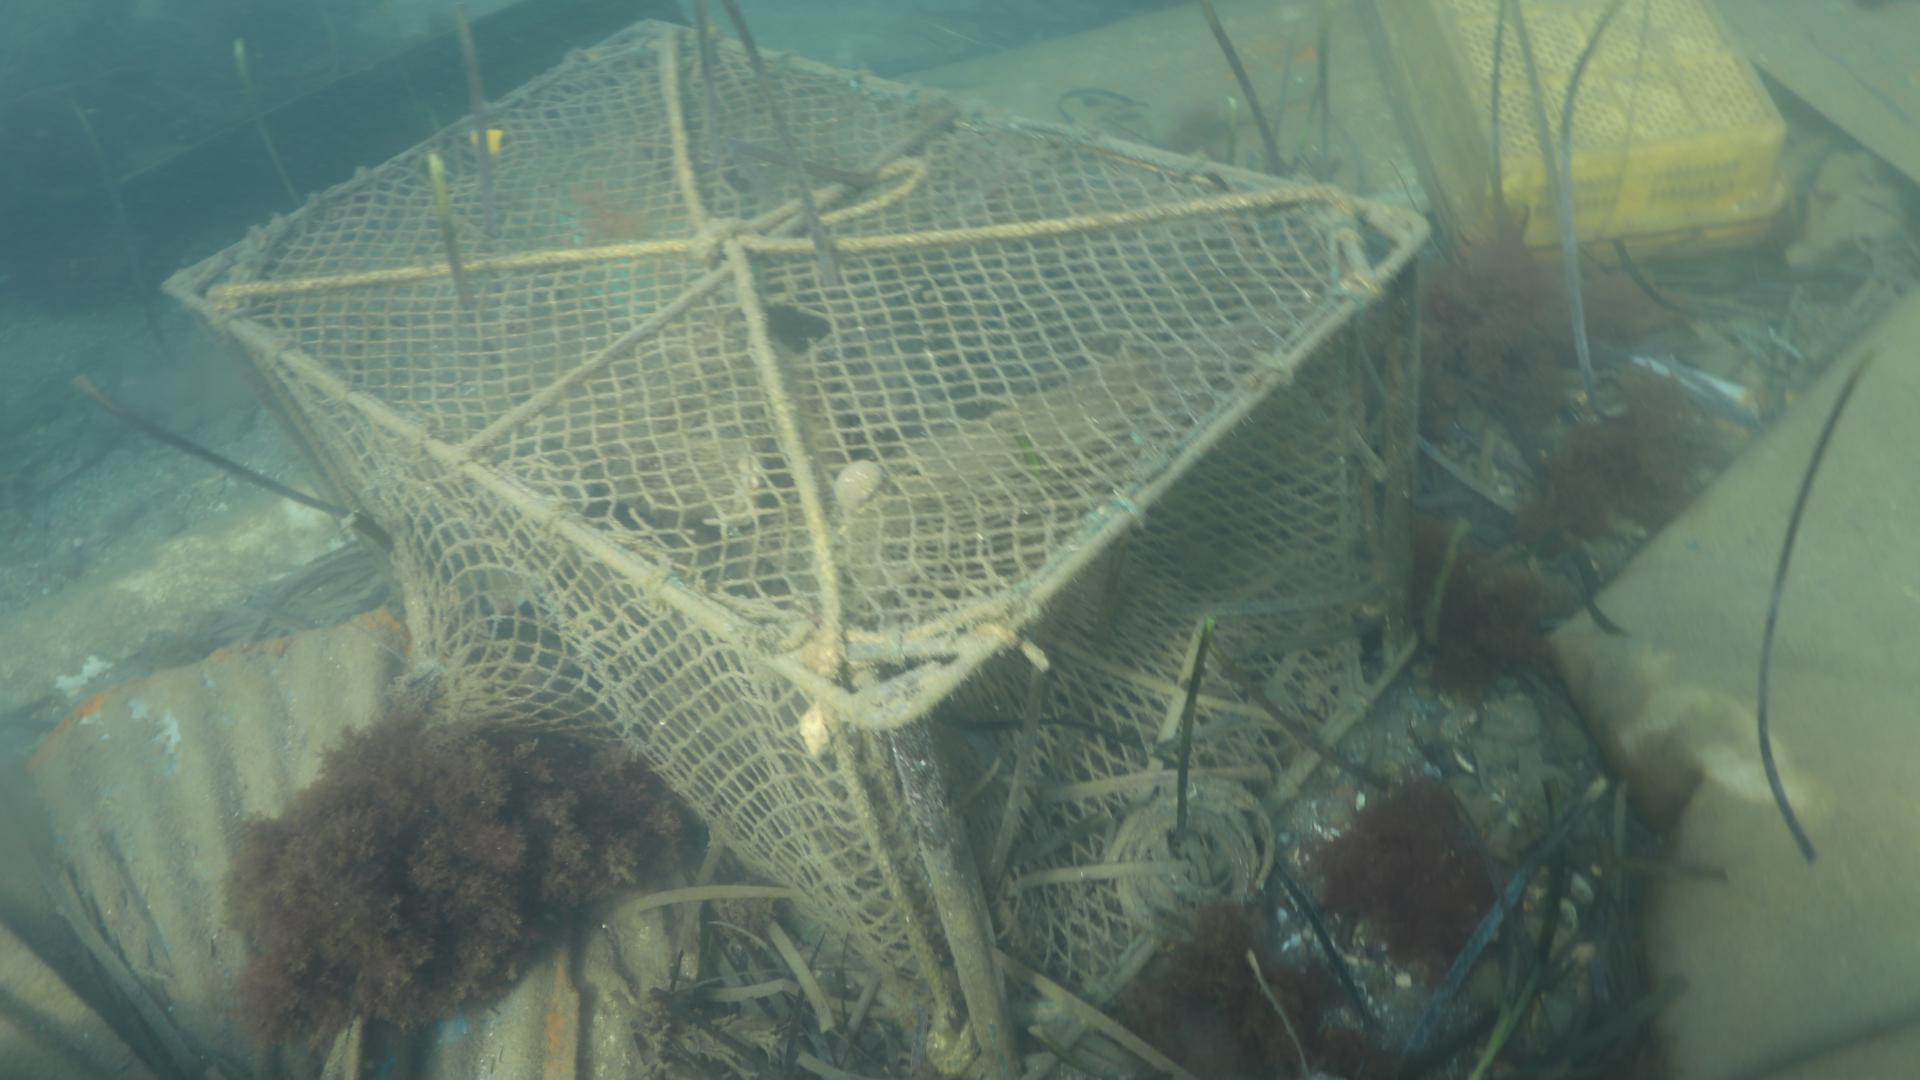rectangular fish trap: (160, 18, 1437, 1080)
